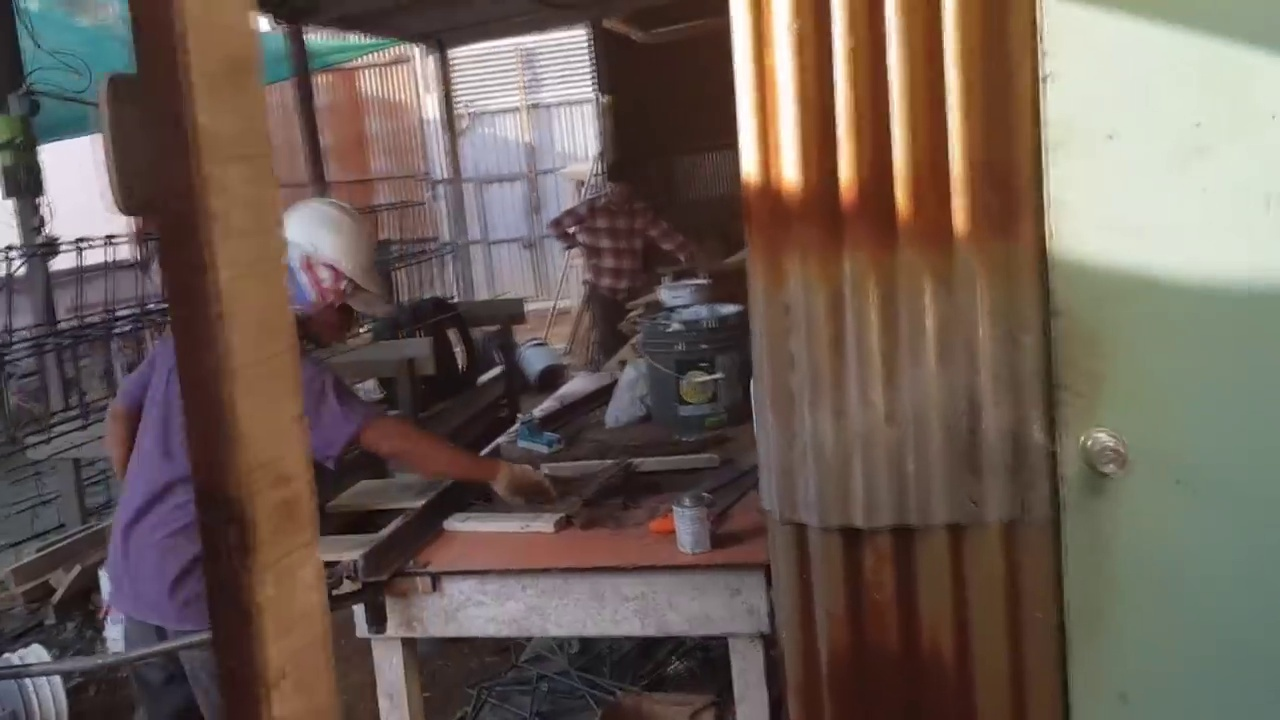helmet: (277, 200, 377, 274)
helmet-off: (601, 158, 648, 210)
helmet-on: (270, 202, 384, 361)
person: (97, 199, 556, 720), (549, 155, 712, 367)
